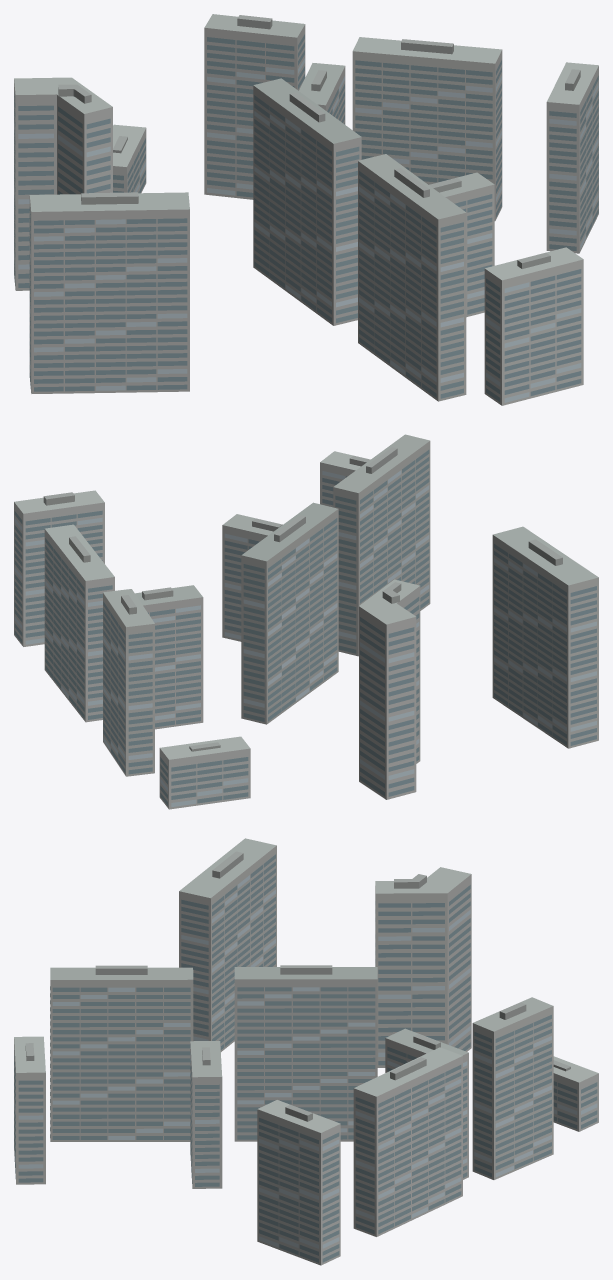
File: apt-a10045001.glb
3 renders of one model, top to bottom at view 1: azimuth 30°, elevation 25°; view 2: azimuth 150°, elevation 25°; view 3: azimuth 270°, elevation 25°, orthographic. The views are drawn at different scales.
Visible parts, largest first — view 1: apt-a10045001; view 2: apt-a10045001; view 3: apt-a10045001.
Part boxes in pixels (x1=…): apt-a10045001: x1=14, y1=14, x2=598, y2=405; apt-a10045001: x1=14, y1=434, x2=598, y2=809; apt-a10045001: x1=14, y1=838, x2=598, y2=1265.
Size of the model in its own units: 209 by 66.45 by 195.
